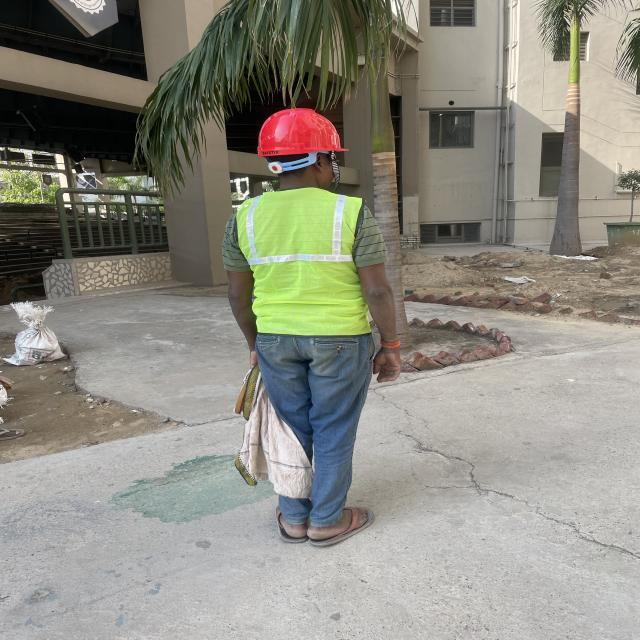safe: (224, 108, 400, 540)
